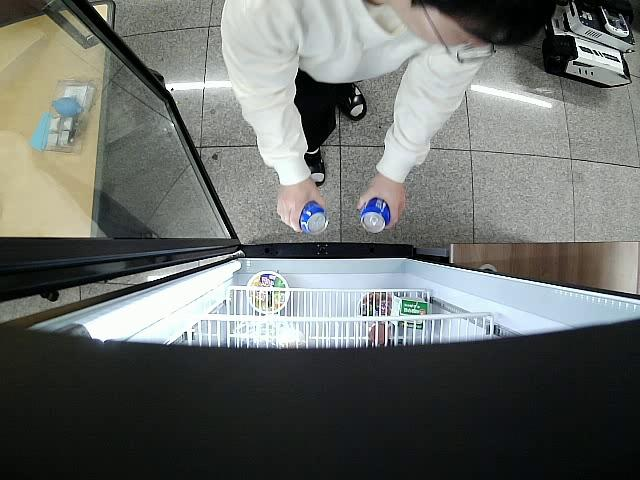00_hand: (357, 174, 406, 233), (276, 182, 324, 233)
13_pocariSweat: (298, 200, 331, 234), (361, 199, 390, 233)
